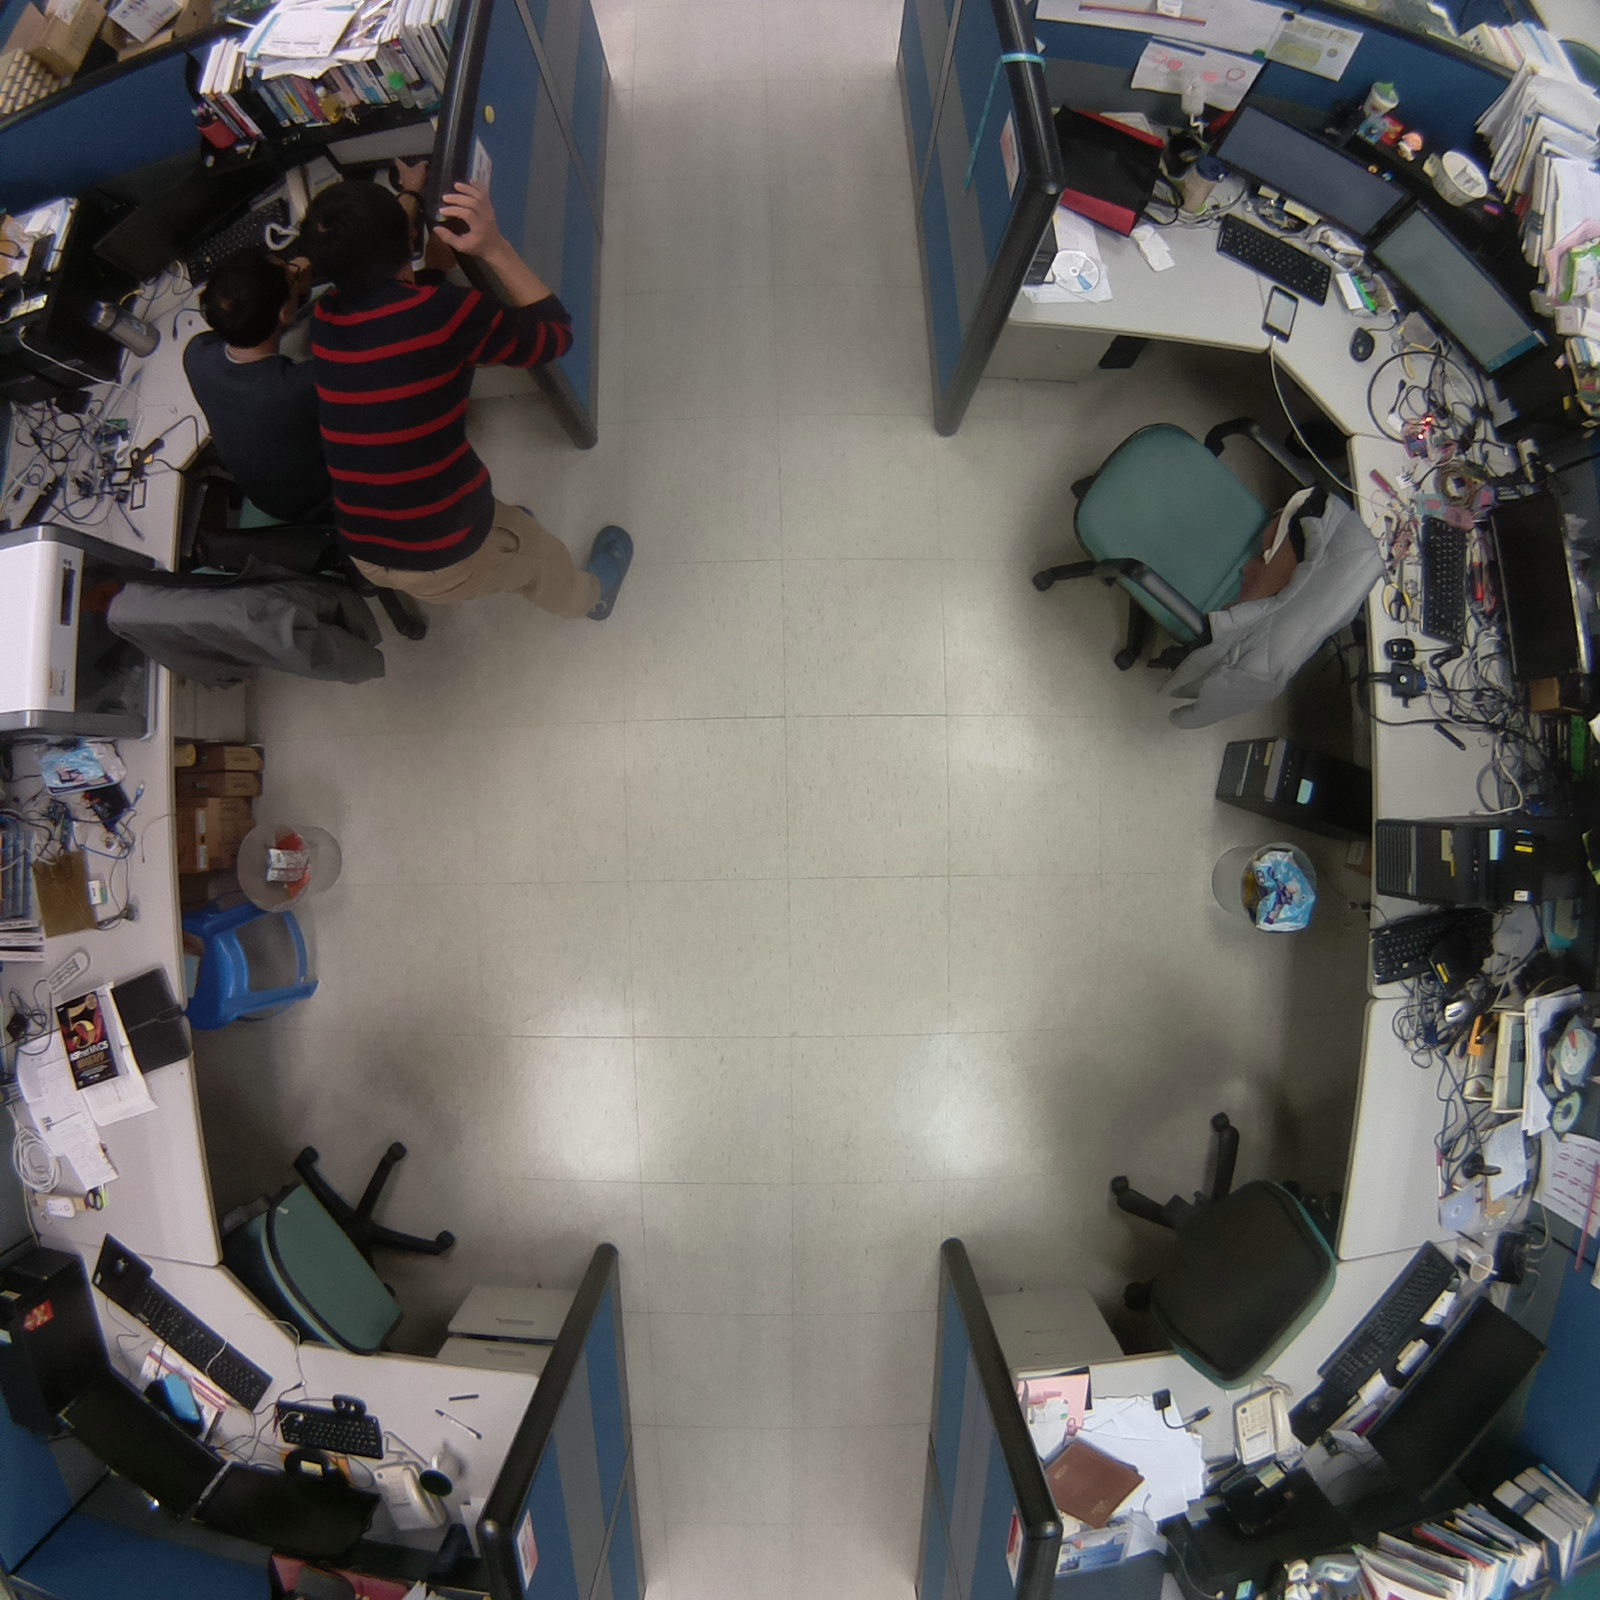chair: (1012, 375, 1396, 752), (1088, 1093, 1347, 1404), (209, 1124, 486, 1370)
head: (291, 170, 423, 295), (185, 242, 295, 353)
sitting: (101, 227, 414, 706)
standing: (287, 169, 655, 650)
